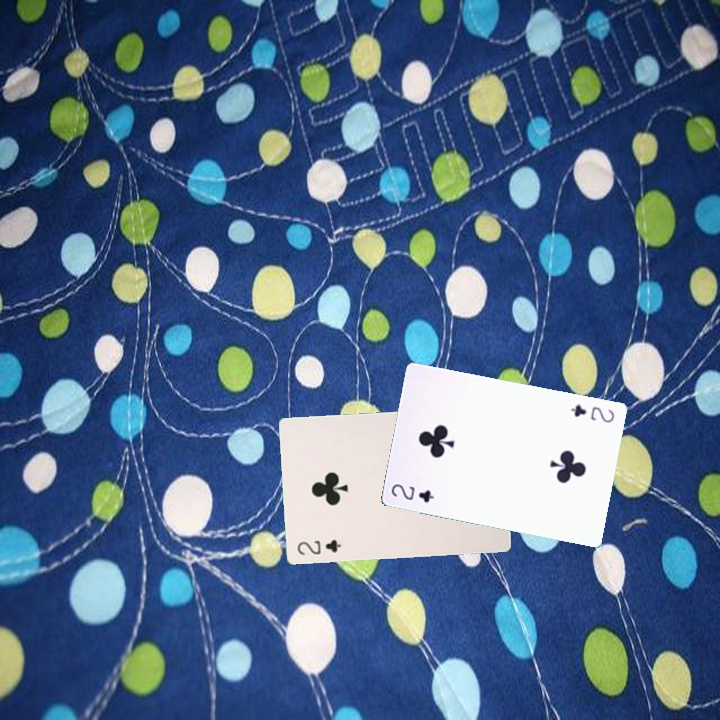2c: (567, 400, 617, 425), (387, 480, 437, 505), (293, 536, 344, 557)
